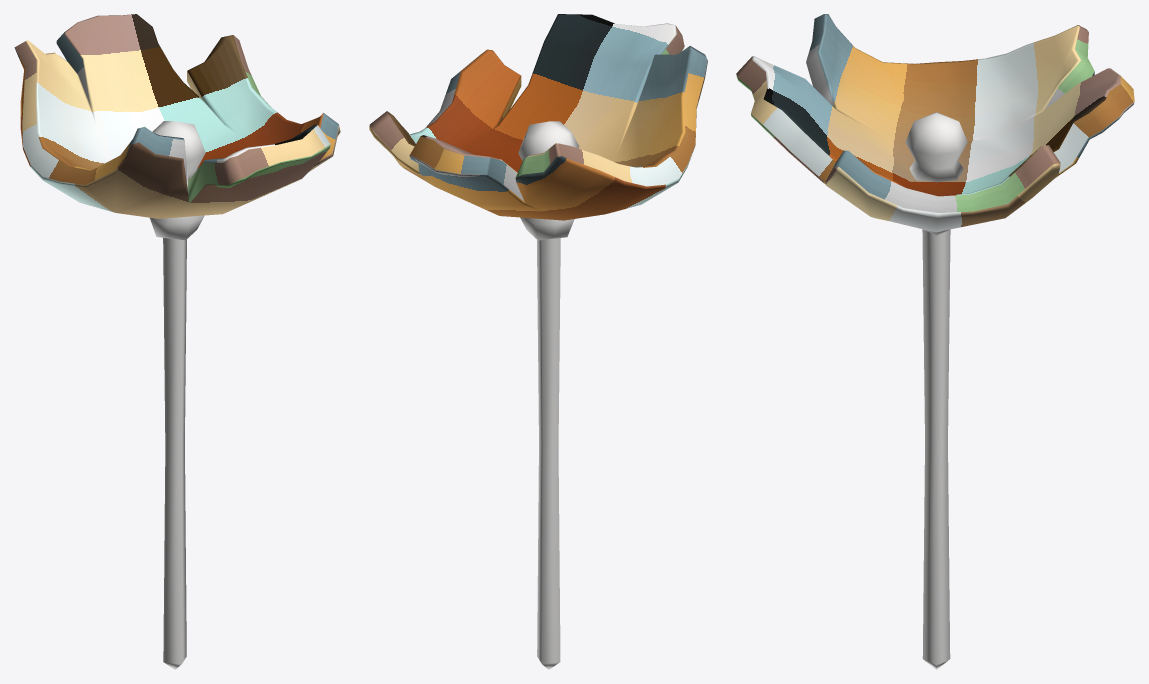
File: P_AP22PendantLight.glb
The picture shows the model from 3 angles, left to right: view 1: azimuth 30°, elevation 25°; view 2: azimuth 150°, elevation 25°; view 3: azimuth 270°, elevation 25°; orthographic projection.
Visible parts, largest first — view 1: P_AP22PendantLight; view 2: P_AP22PendantLight; view 3: P_AP22PendantLight.
Part boxes in pixels (bbox=[...]): P_AP22PendantLight: bbox=[14, 14, 340, 669]; P_AP22PendantLight: bbox=[369, 14, 707, 669]; P_AP22PendantLight: bbox=[736, 14, 1134, 669].
Size of the model in its own units: 0.5293 by 1.16 by 0.6845.
Materials: 1 (1 with a texture image).
